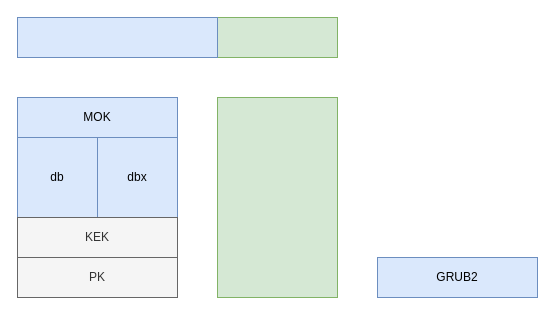
This 555x315 diagram has some shape labels left out. The shapes that lost their labels are listed below. From the top down, each one's centre as x and y in pixels, then its label:
[117,37]: shim embedded keys
[277,37]: shim
[277,197]: UEFI Firmware
